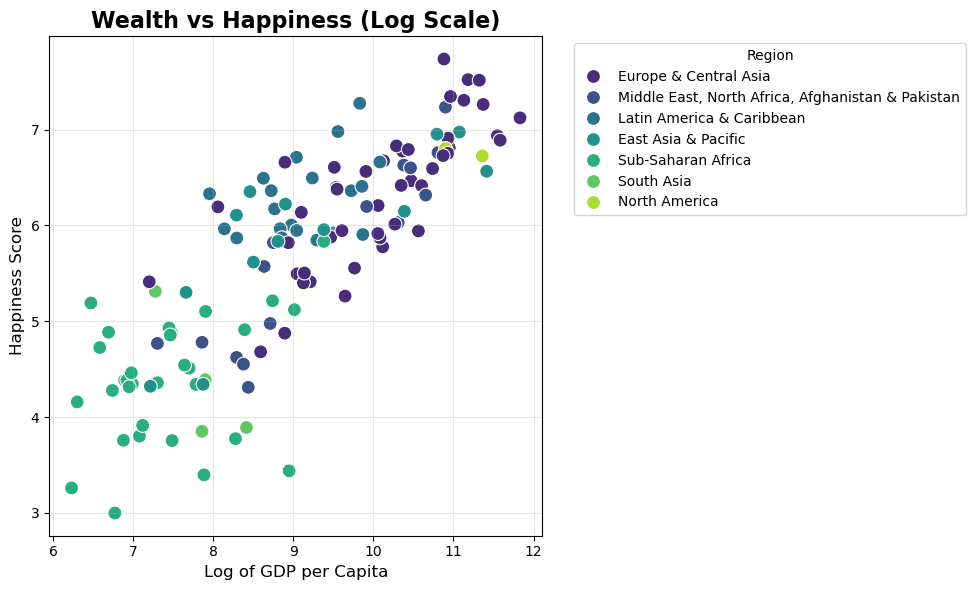

What the dashboard file says about the page in this screenshot:
{"tool":"powerbi","page":{"name":"GDP vs Happiness","canvas":[1280,720],"ordinal":0},"visuals":[{"type":"scatterChart","fields":{"X":["whr_wdi_left_merge_wide.GDP per Capita"],"Y":["whr_wdi_left_merge_wide.Happiness Score"],"Series":["whr_wdi_left_merge_wide.Region"]},"box":[9.6,0,1270.4,719.8],"z":0}]}

Visuals, with their boxes on the page's 1280x720 design canvas (x1, y1, x2, y2). These are canvas units, not pixel positions in the 975x590 screenshot, which may show the page scaled, cropped or inside an application window:
scatterChart - whr_wdi_left_merge_wide.GDP per Capita x whr_wdi_left_merge_wide.Happiness Score: (x1=10, y1=0, x2=1280, y2=720)
